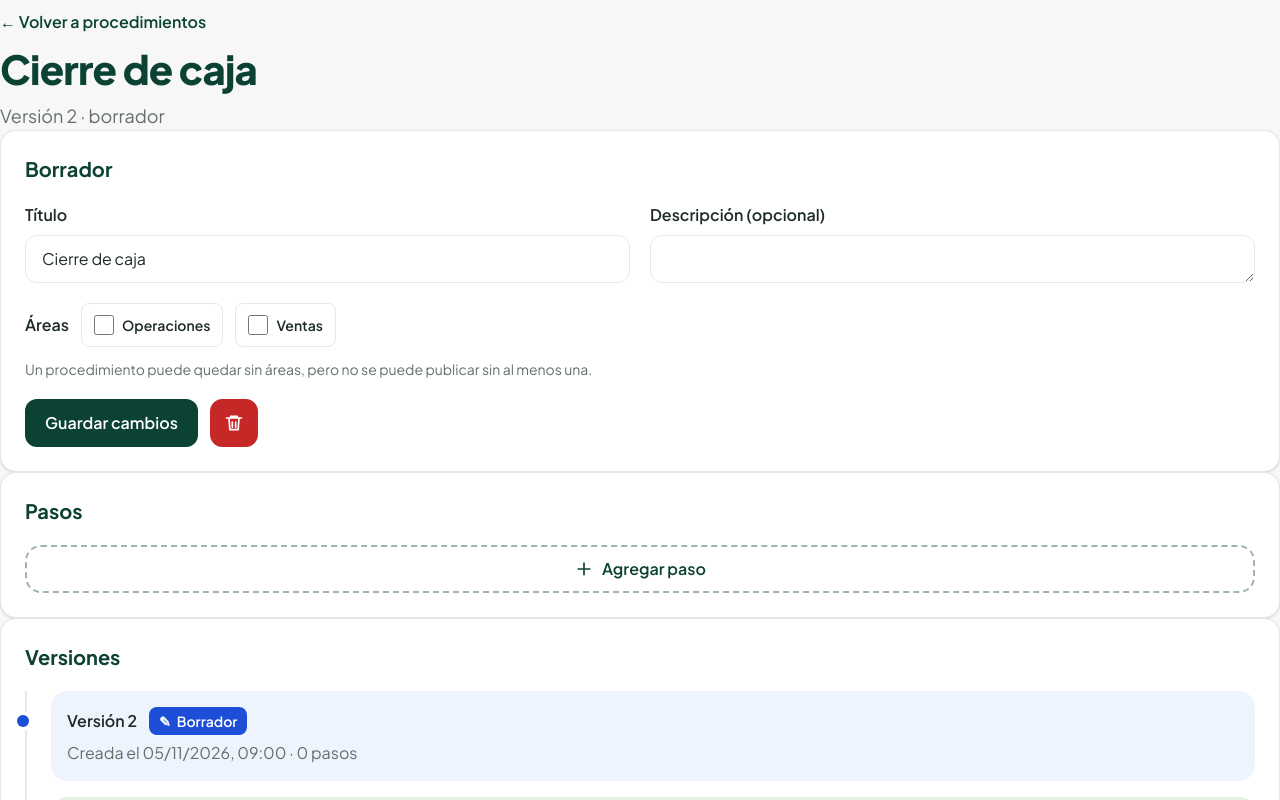
Test: when the draft changes, the history follows (spec 015, R8) › a step added to the draft is counted in the timeline
This screenshot has width=1280, height=800.
Check: the text "0 pasos" is shown, box [296, 742, 358, 763]
Click the button "Agregar paso".
click(640, 569)  # box [25, 545, 1255, 593]
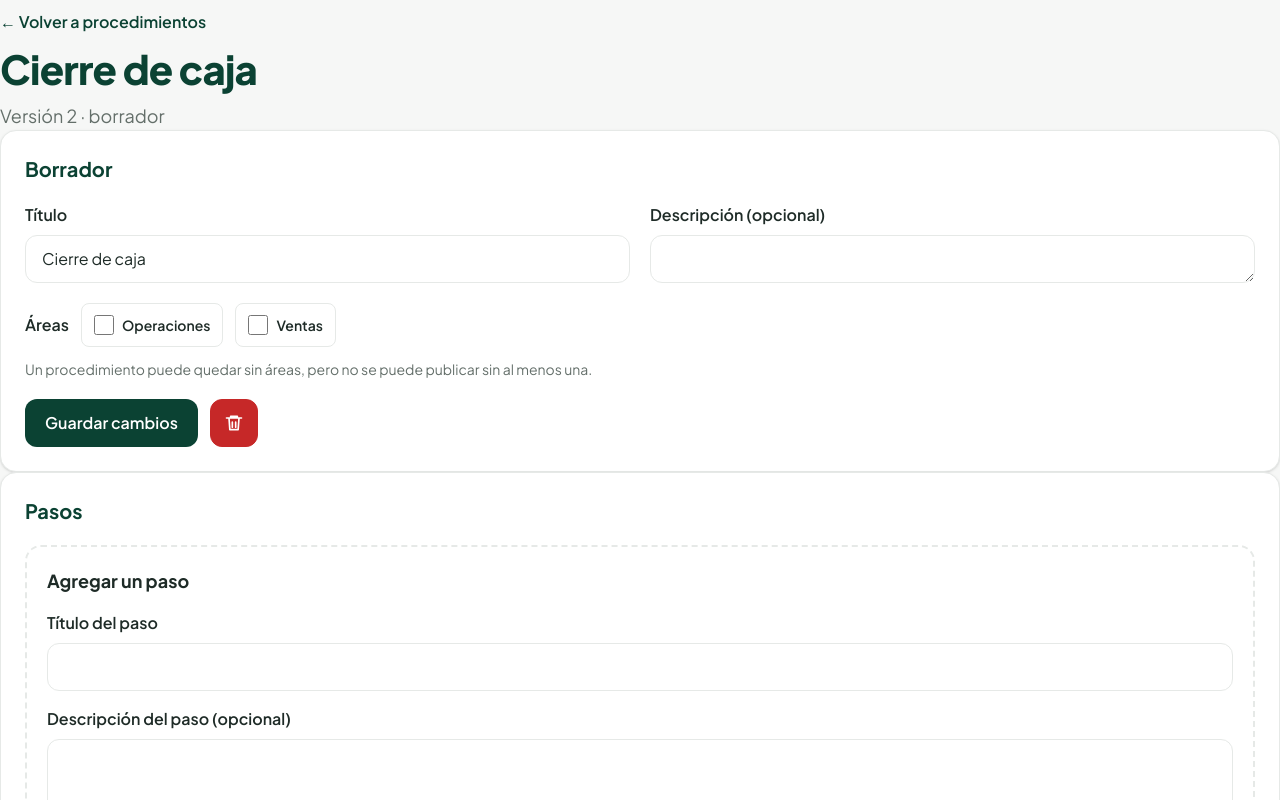
Type "Contar" into the field labelled "Título del paso".
click(640, 667); type("Contar")  # box [47, 643, 1233, 691]
(page scrolled)
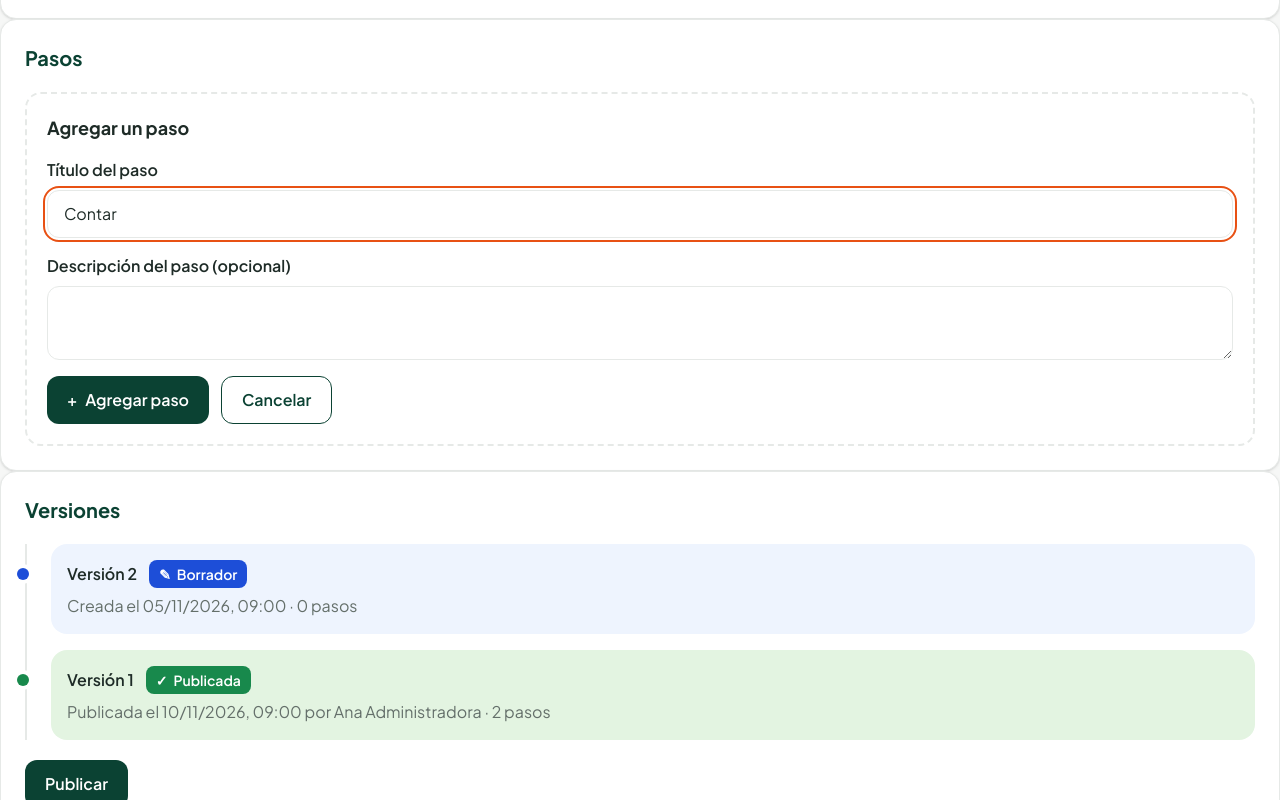
Click the button "+ Agregar paso".
click(128, 400)  # box [47, 376, 209, 424]
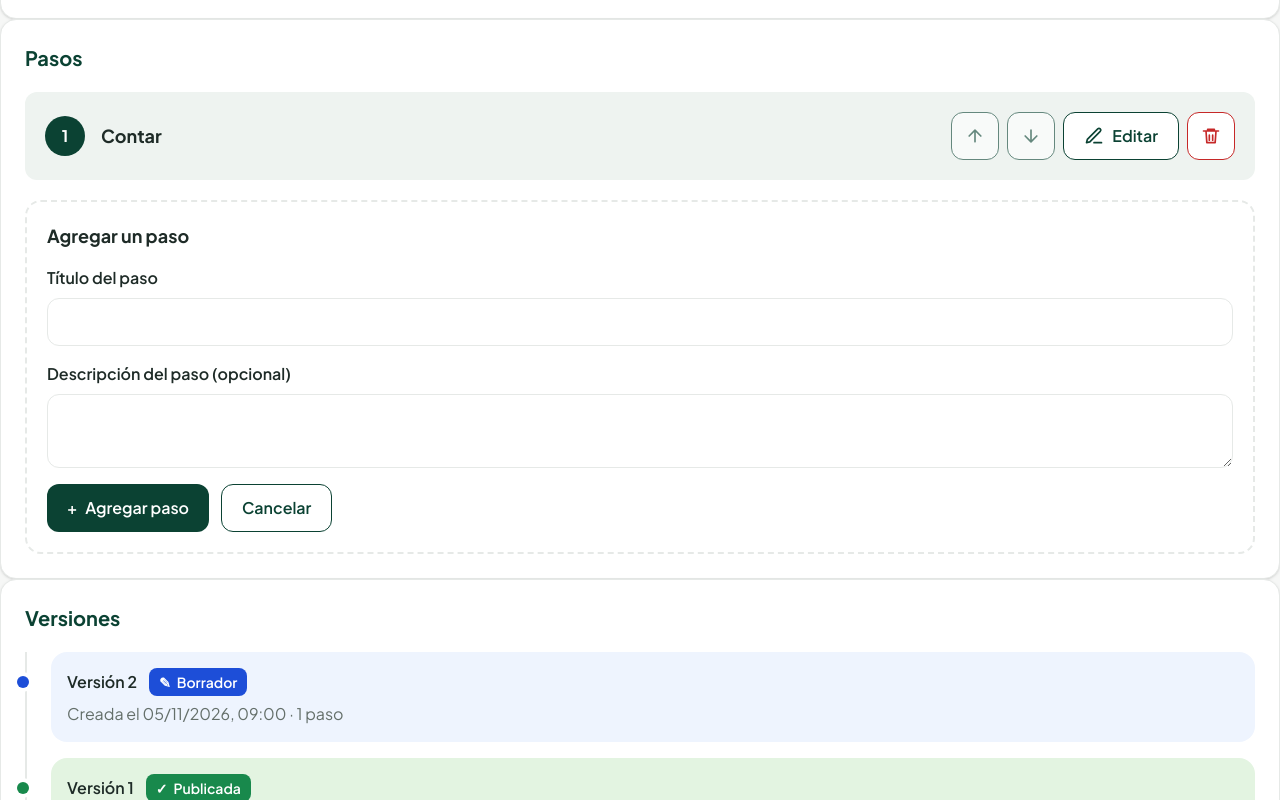
Check: the text "1 paso" is shown, box [296, 703, 344, 724]
